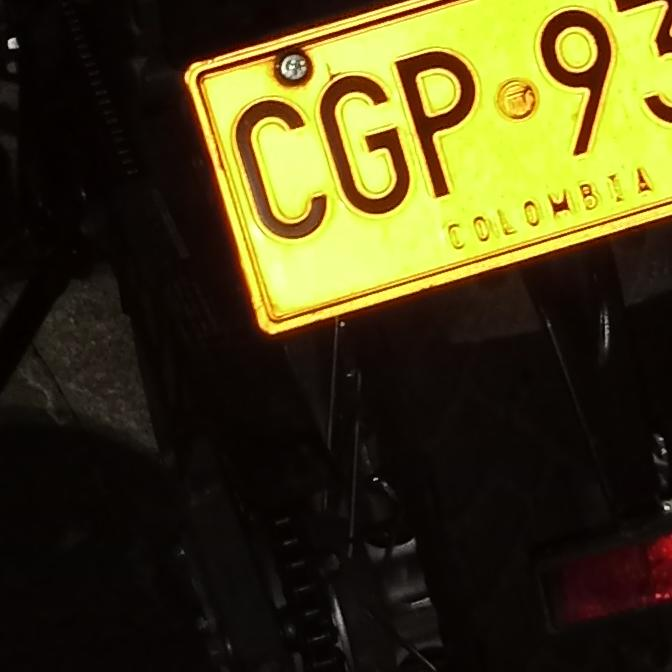plates: (176, 0, 672, 348)
